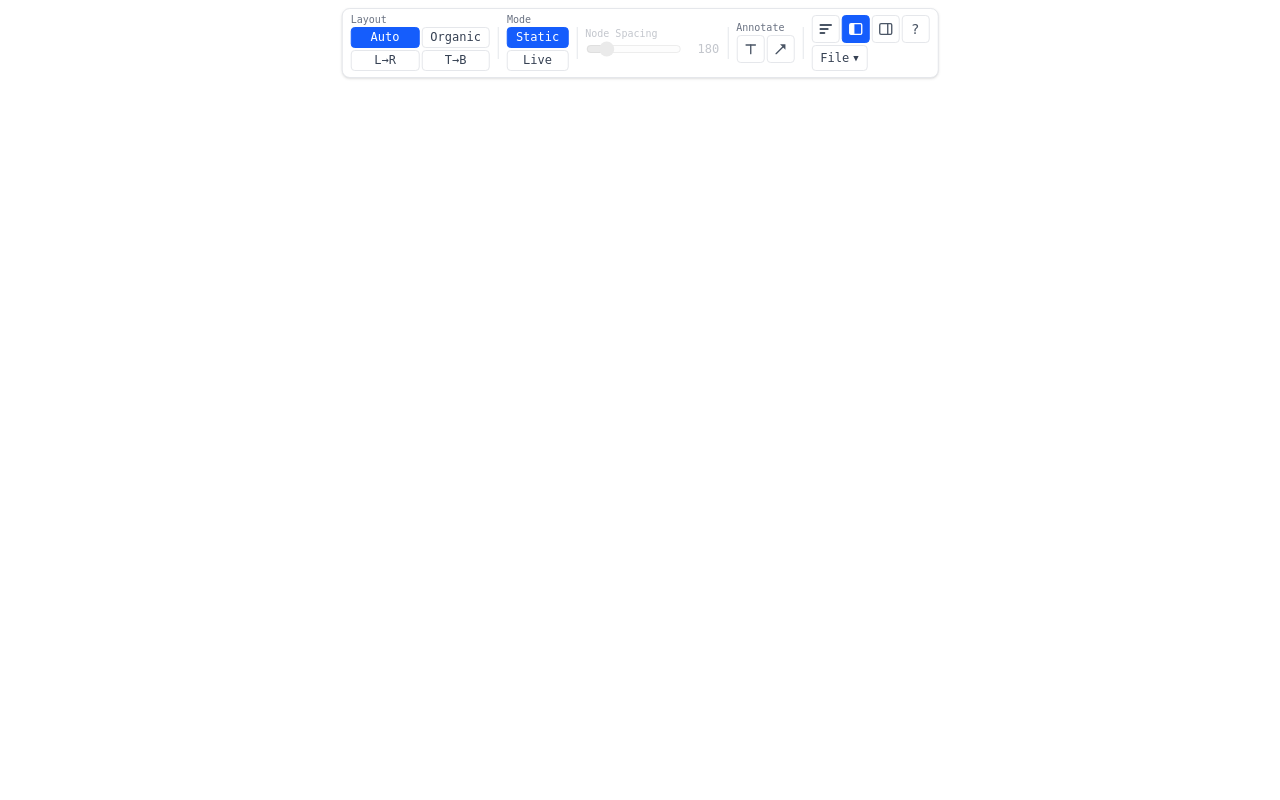
Toolbar sort all: confirmation when a custom order exists › Cancel keeps every existing order and closes the dialog
Click the button named "Sort all tables by type": (825, 29) [811,15,839,43]
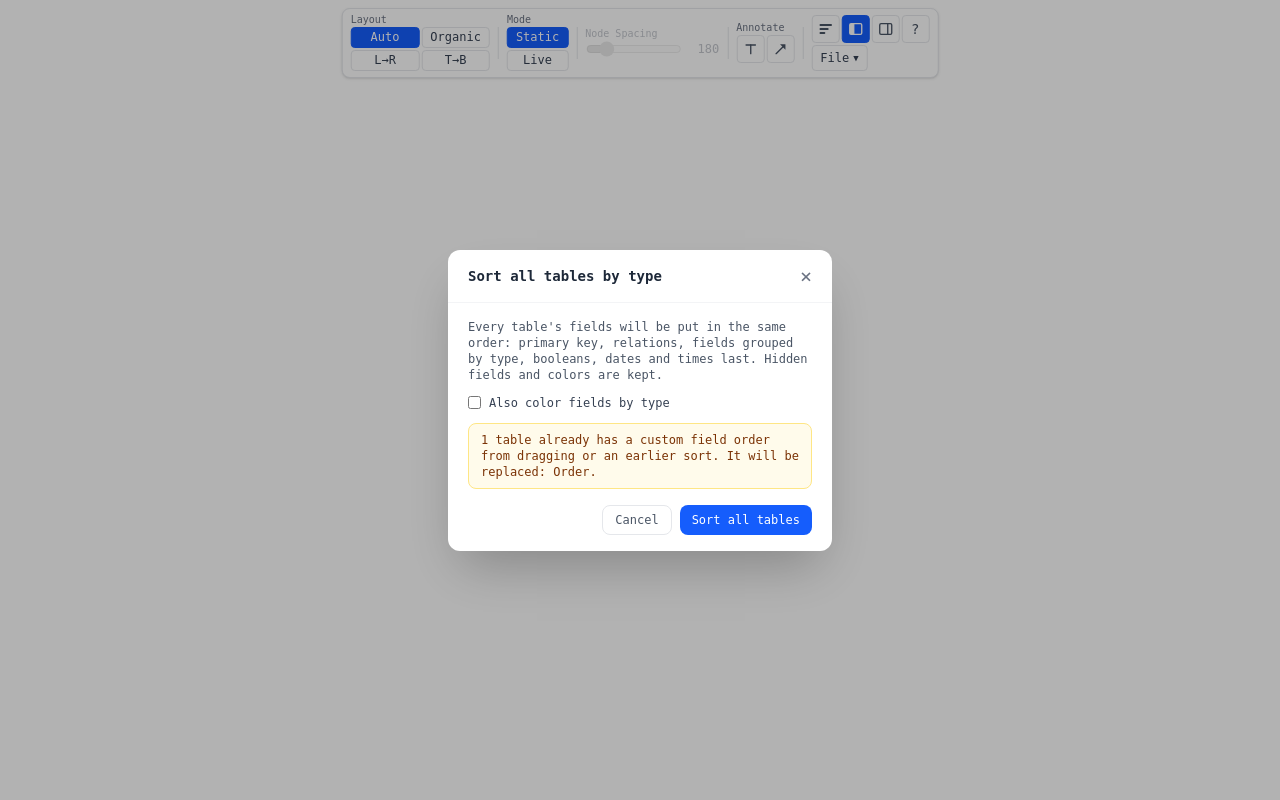
Click the button "Cancel": (637, 520) [602,504,672,534]
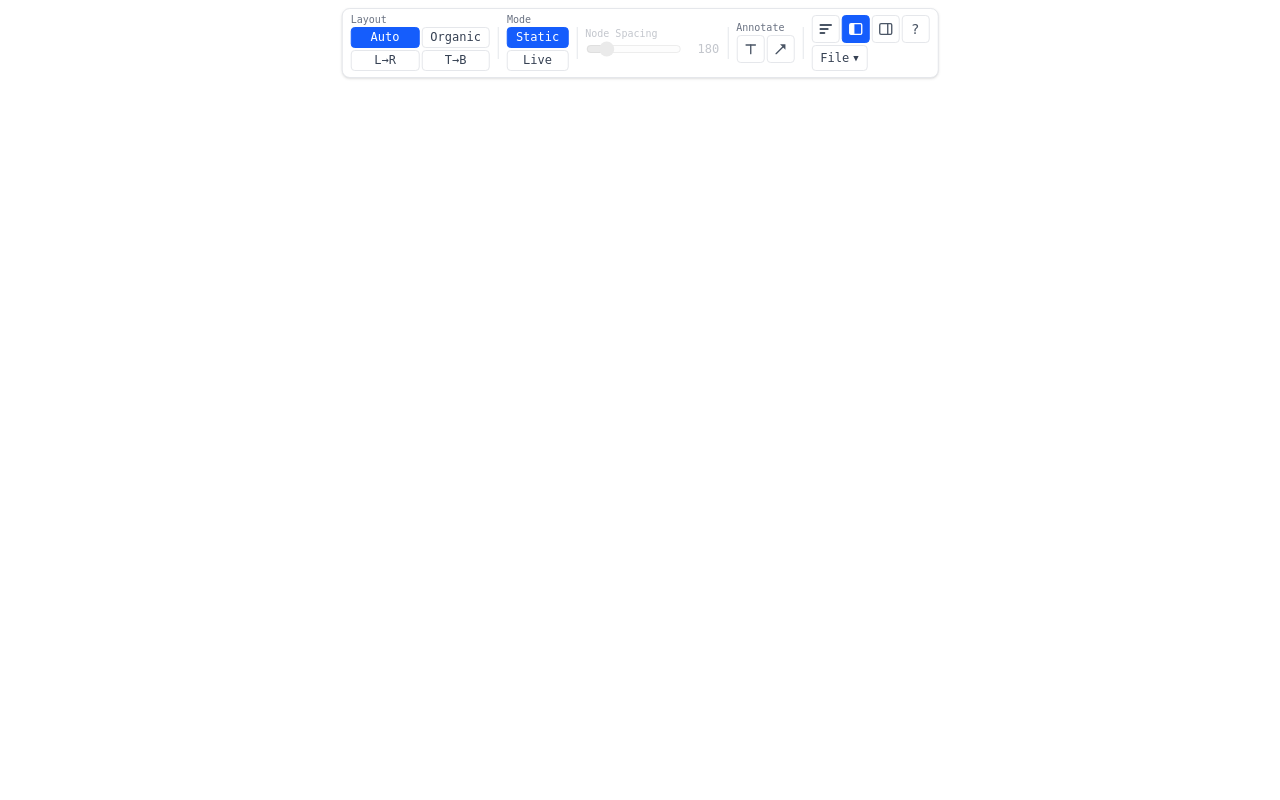
Check: the dialog is gone
